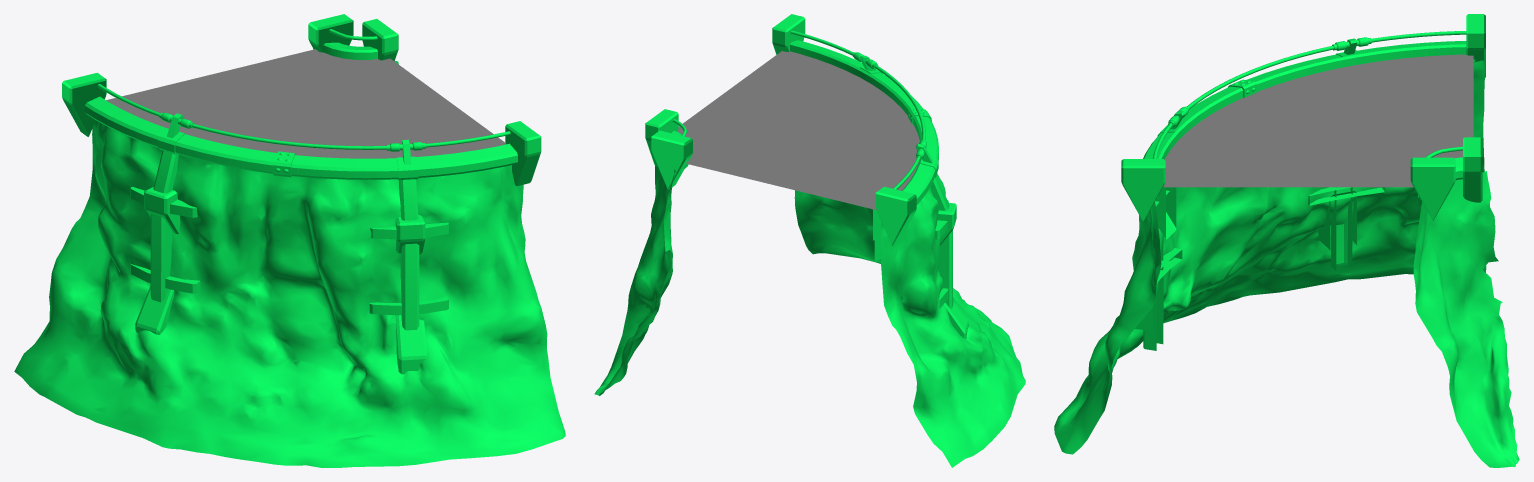
The model's file is Track_05_R.fbx.
3 views of the same model, side by side, from view 1: azimuth 30°, elevation 25°; view 2: azimuth 150°, elevation 25°; view 3: azimuth 270°, elevation 25° (orthographic). The views are drawn at different scales.
Parts seen in each view (by area): view 1: Side_Rock_007, Road_007; view 2: Side_Rock_007, Road_007; view 3: Side_Rock_007, Road_007.
Boxes of the visible parts, <box> form: Side_Rock_007: <box>14,14,565,467</box>; Road_007: <box>106,49,505,158</box>; Side_Rock_007: <box>594,14,1025,467</box>; Road_007: <box>677,51,919,210</box>; Side_Rock_007: <box>1054,14,1519,467</box>; Road_007: <box>1163,54,1473,187</box>.
Size of what is drawn, in the model's own units: 3704 by 3789 by 2600.
